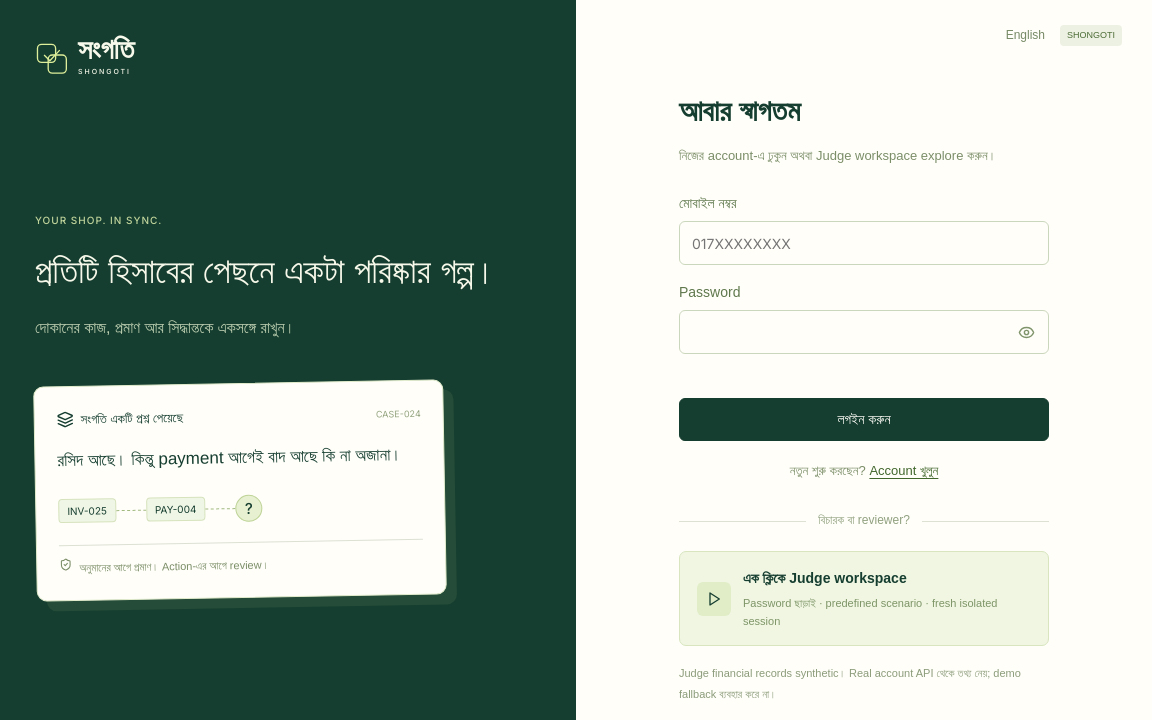
Test: Protected merchant workflow boundaries › failed password sign-in preserves credentials and never reports success
Step 1. Type "01712345678" into the field labelled "মোবাইল নম্বর" → (864, 243), box [679, 221, 1049, 265]
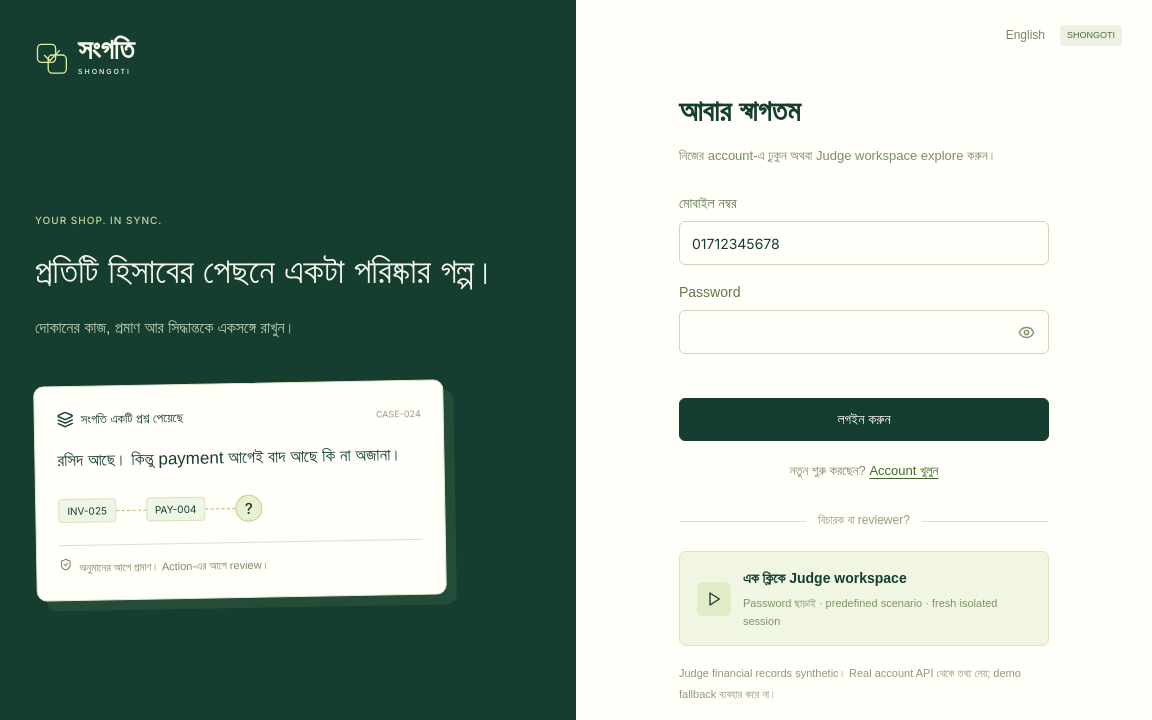
Step 2. Type "incorrect-password" into the password field labelled "Password" → (864, 332), box [679, 310, 1049, 354]
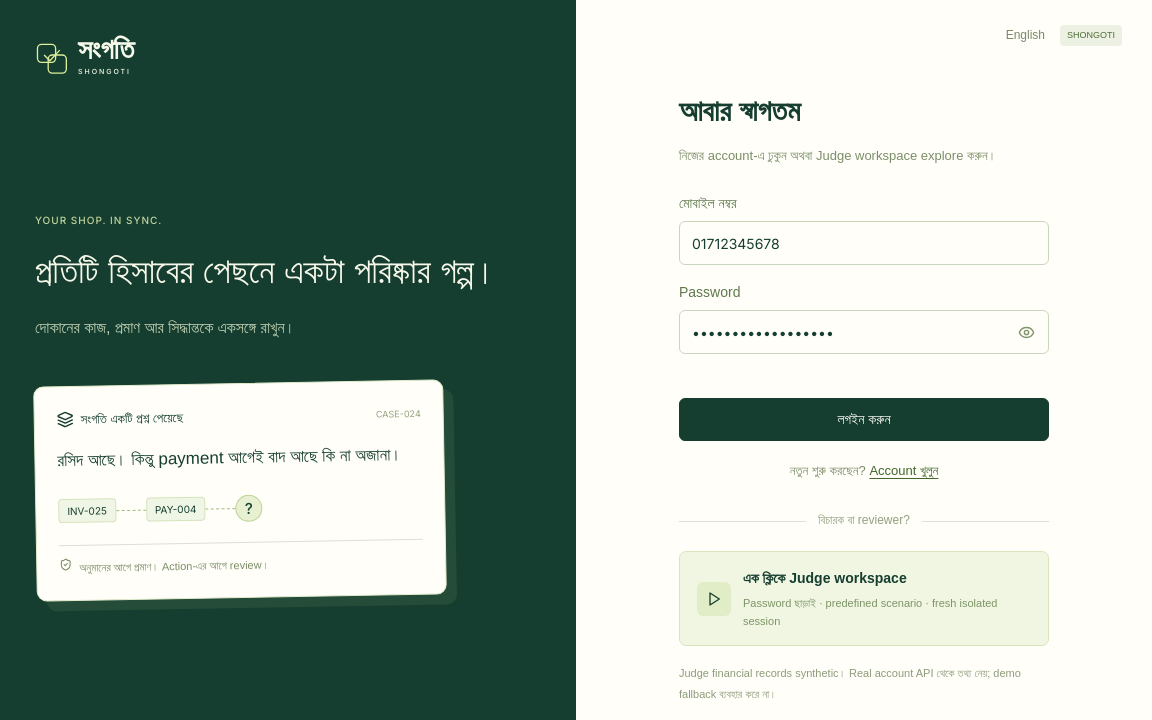
Step 3. Submit the form labelled "মোবাইল নম্বর Password লগইন করুন", box [679, 192, 1049, 442]
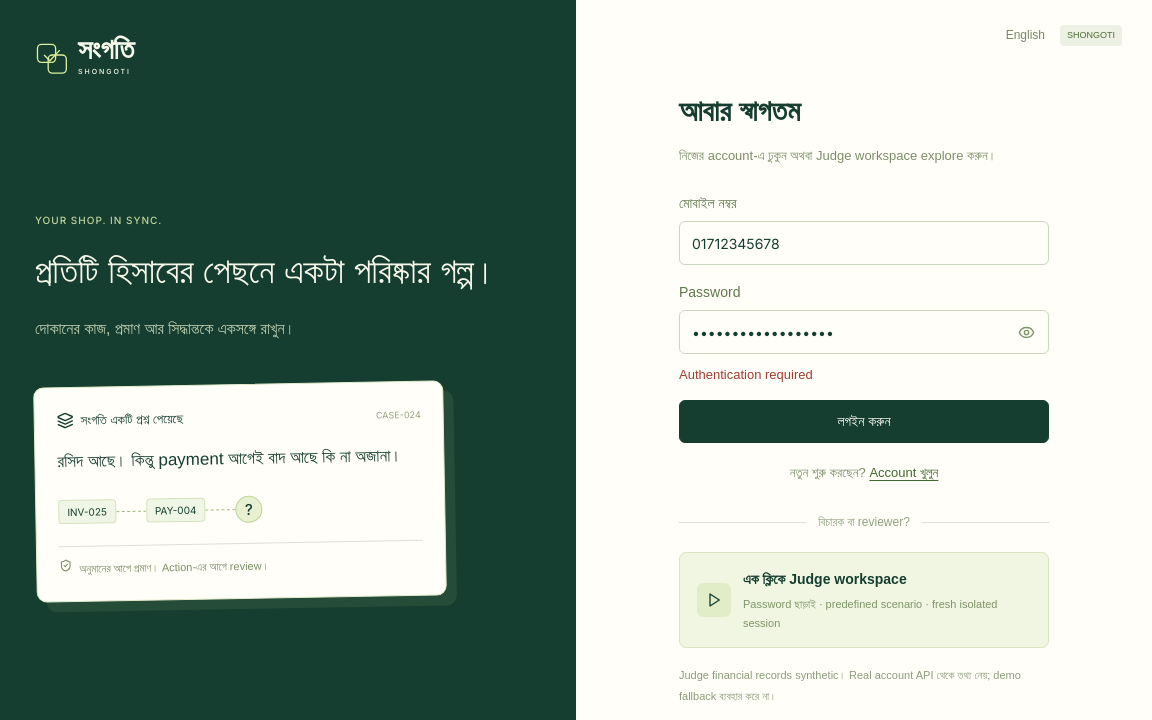
Result: the message reads "Authentication required" at [679, 367, 813, 382]
